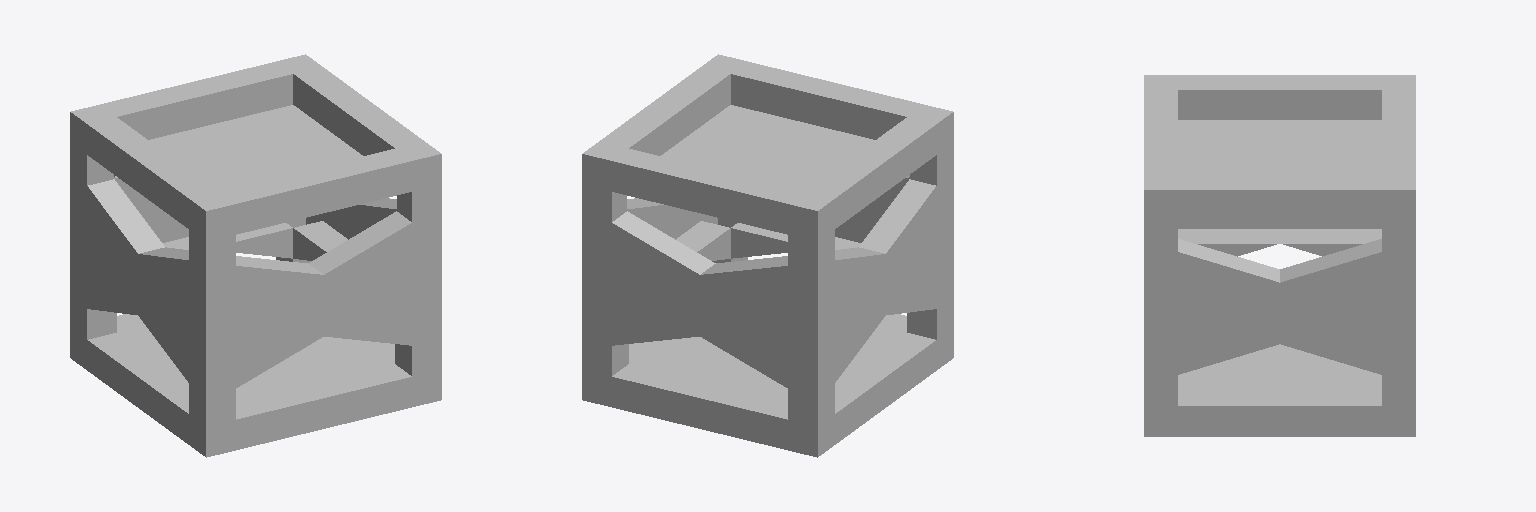
File: MithrilineFurnace.obj
3 views of the same model, side by side, from view 1: azimuth 30°, elevation 25°; view 2: azimuth 150°, elevation 25°; view 3: azimuth 270°, elevation 25° (orthographic).
Visible parts, largest first — view 1: pCube1; view 2: pCube1; view 3: pCube1.
Part boxes in pixels (bbox=[...]): pCube1: bbox=[70, 54, 441, 457]; pCube1: bbox=[582, 54, 953, 457]; pCube1: bbox=[1144, 75, 1415, 436].
Bounding box in the file's own units: 1 × 1 × 1.